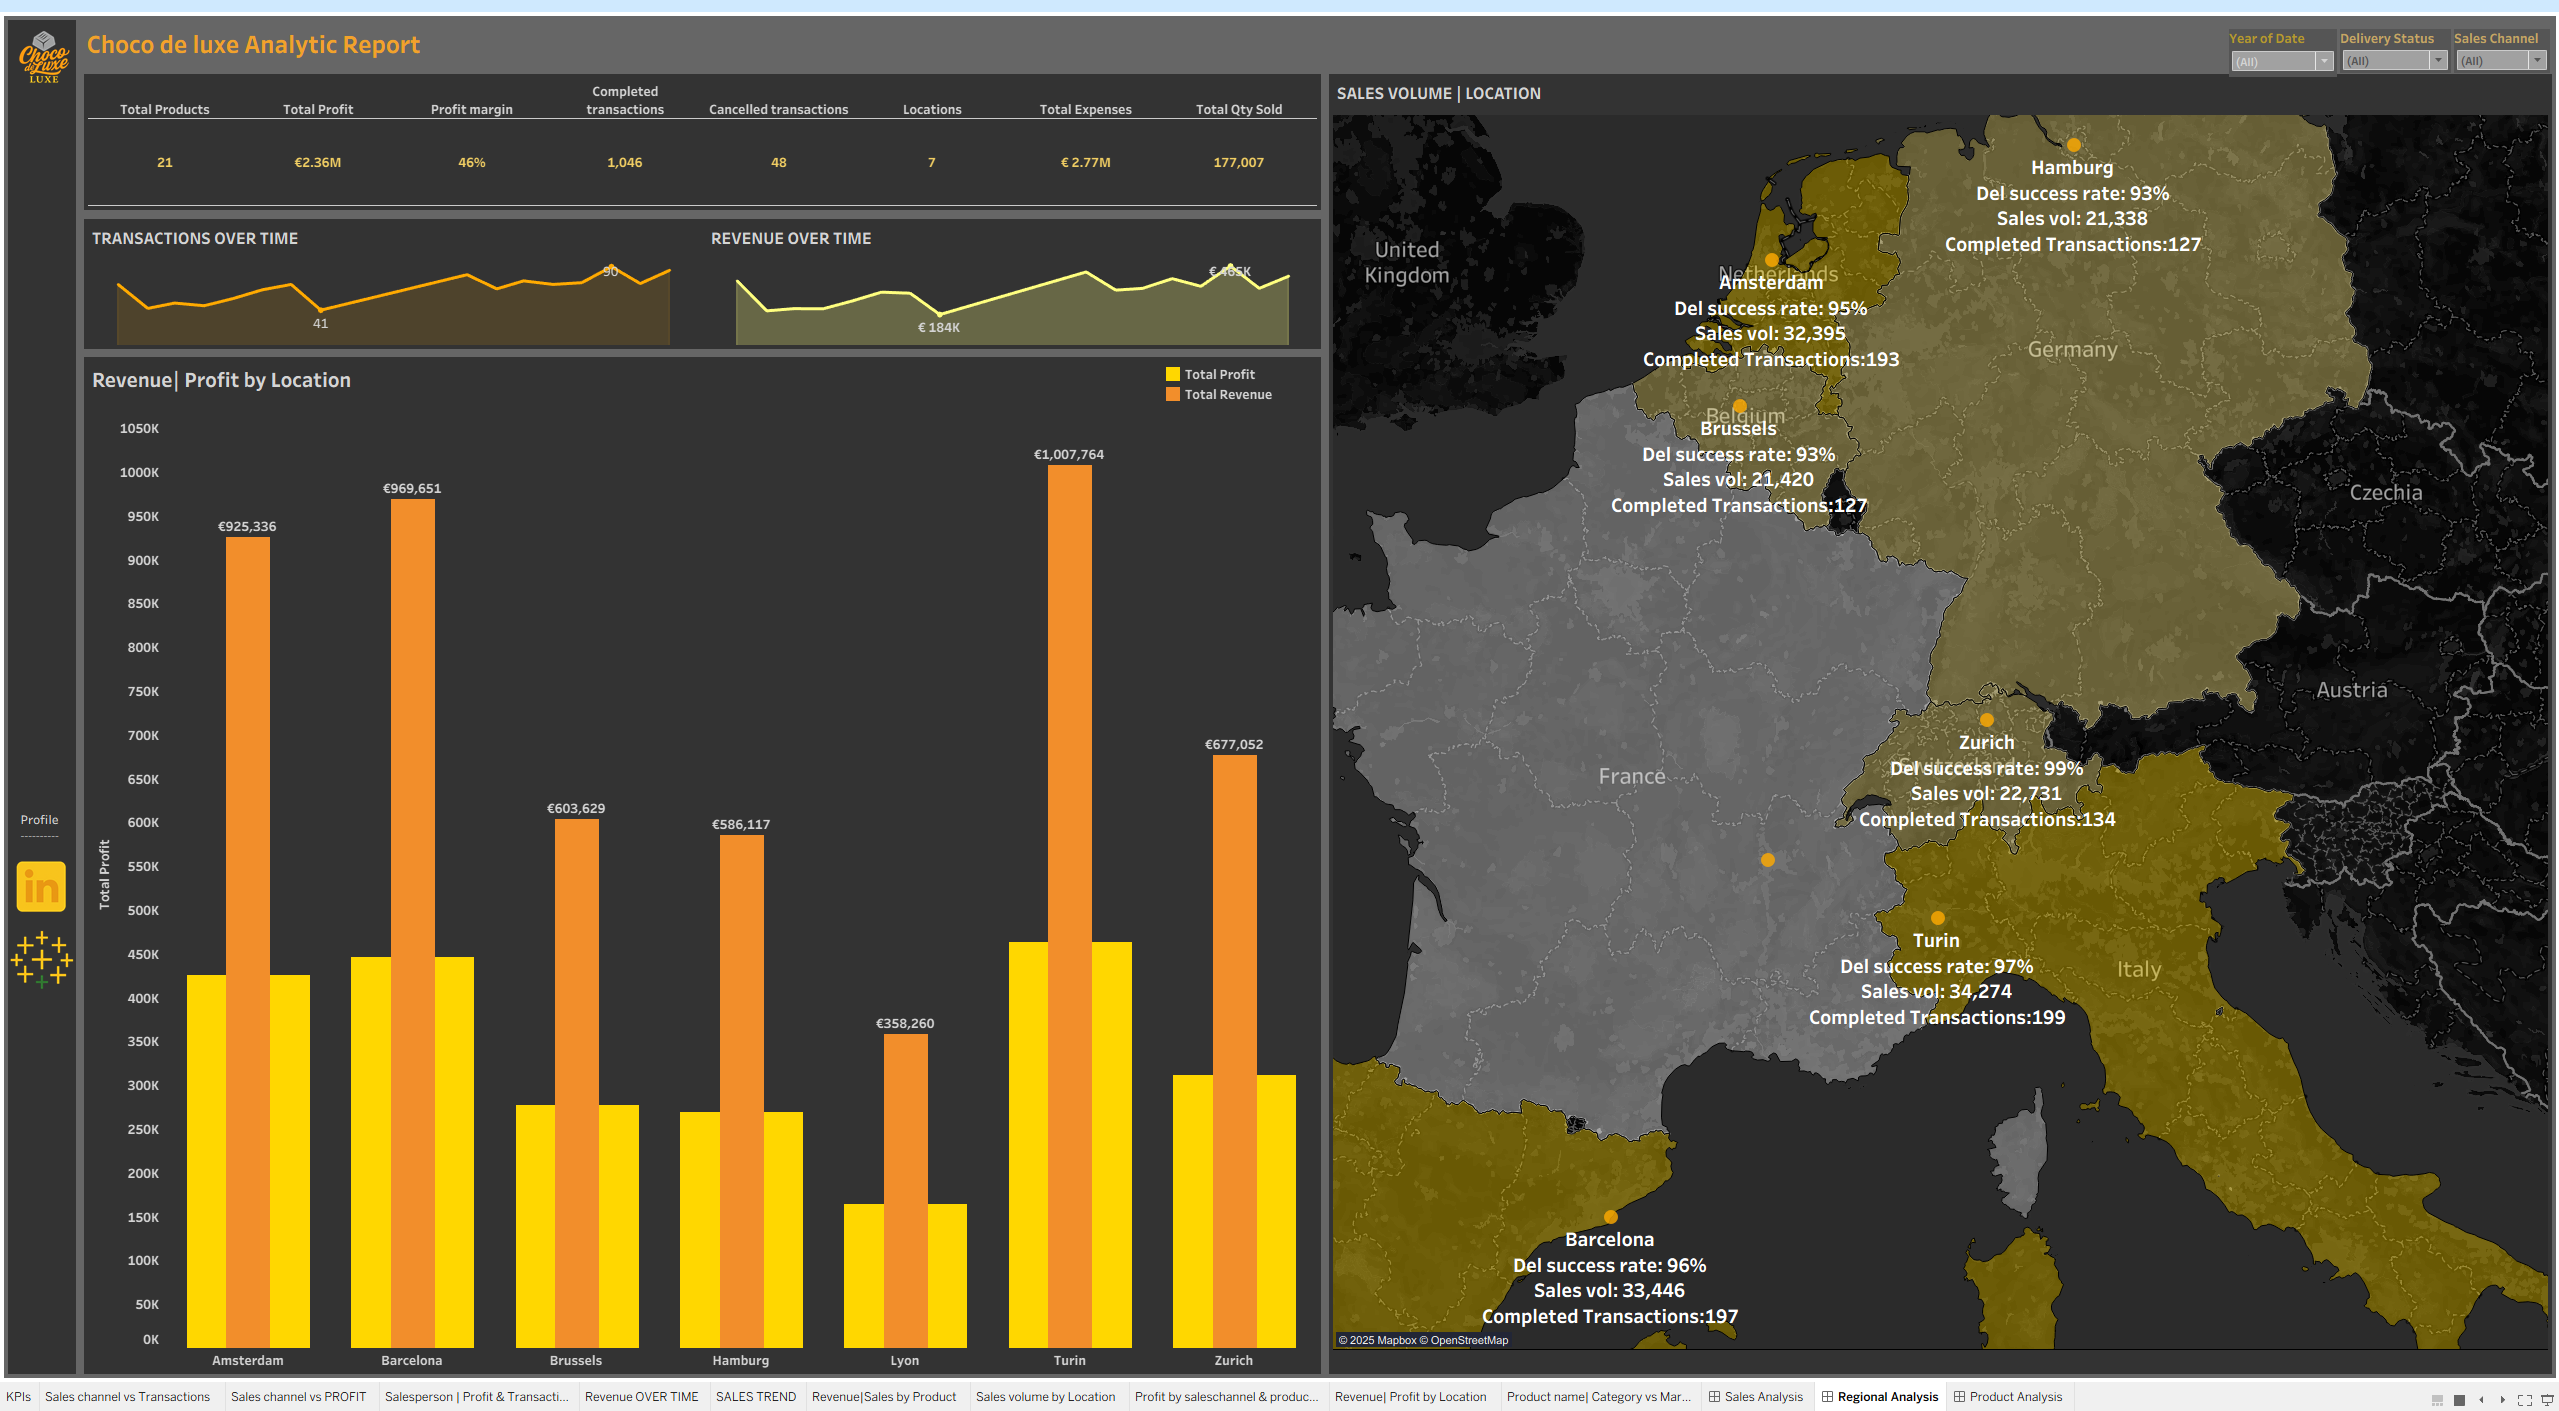

The page's visual inventory and layout, read from the dashboard file:
{"tool":"tableau","page":{"name":"Regional Analysis","canvas":[1000,1000],"units":"permille","ordinal":1},"visuals":[{"type":"title","box":[31.4,3.3,966.9,39.4]},{"type":"image","param":"Image/Copilot_20250723_212216.png","box":[2.6,9.1,28.5,56]},{"type":"filter","title":"KPIs","param":"[federated.0eekawp0wyn1681bht6681838vjj].[yr:Date:ok]","box":[870.6,12.3,42.1,35.4]},{"type":"filter","title":"Sales volume by Location","param":"[federated.0eekawp0wyn1681bht6681838vjj].[none:Delivery Status:nk]","box":[914.1,12.3,43.2,32.1]},{"type":"filter","title":"Revenue OVER TIME","param":"[federated.0eekawp0wyn1681bht6681838vjj].[none:Sales Channel:nk]","box":[958.6,12.3,37.6,32.1]},{"type":"worksheet","title":"KPIs","mark":"Automatic","box":[33.1,46,482.8,98.8]},{"type":"worksheet","title":"Sales volume by Location","mark":"Automatic","box":[519.3,46,477.3,947.5]},{"type":"worksheet","title":"SALES TREND","mark":"Automatic","rows":["Calculation_2393381761688870936","Calculation_2393381761688870936"],"cols":["Date"],"box":[33.1,151.3,241.4,94.6]},{"type":"worksheet","title":"Revenue OVER TIME","mark":"Automatic","rows":["Calculation_2393381760619601923","Calculation_2393381760619601923"],"cols":["Date"],"box":[274.5,151.3,241.4,94.6]},{"type":"worksheet","title":"Revenue| Profit by Location","mark":"Bar","rows":["Calculation_2393381760627785735","Calculation_2393381760619601923"],"cols":["City"],"box":[33.1,252.5,482.8,740.9]},{"type":"legend","title":"Revenue| Profit by Location","param":"[federated.0eekawp0wyn1681bht6681838vjj].[:Measure Names]","box":[454.2,256.8,59.6,48.6]},{"type":"text","box":[6.9,581.9,21.5,28]},{"type":"image","param":"Image/LINKEDIN ICON (2).png","box":[3.9,618.9,23.8,37.9]},{"type":"image","param":"Image/tABLEAU ICON (2).png","box":[3.4,665.8,25.3,52.7]}]}

Visuals, with their boxes on the dashboard's canvas, which has no fixed pixel size, in thousandths of its width and height (x1, y1, x2, y2). These are canvas units, not pixel positions in the 2559x1411 screenshot, which may show the page scaled, cropped or inside an application window:
title: left=31, top=3, right=998, bottom=43
image: left=3, top=9, right=31, bottom=65
"KPIs" filter: left=871, top=12, right=913, bottom=48
"Sales volume by Location" filter: left=914, top=12, right=957, bottom=44
"Revenue OVER TIME" filter: left=959, top=12, right=996, bottom=44
"KPIs" worksheet: left=33, top=46, right=516, bottom=145
"Sales volume by Location" worksheet: left=519, top=46, right=997, bottom=994
"SALES TREND" worksheet: left=33, top=151, right=274, bottom=246
"Revenue OVER TIME" worksheet: left=274, top=151, right=516, bottom=246
"Revenue| Profit by Location" worksheet (Bar marks): left=33, top=252, right=516, bottom=993
"Revenue| Profit by Location" legend: left=454, top=257, right=514, bottom=305
text: left=7, top=582, right=28, bottom=610
image: left=4, top=619, right=28, bottom=657
image: left=3, top=666, right=29, bottom=718
